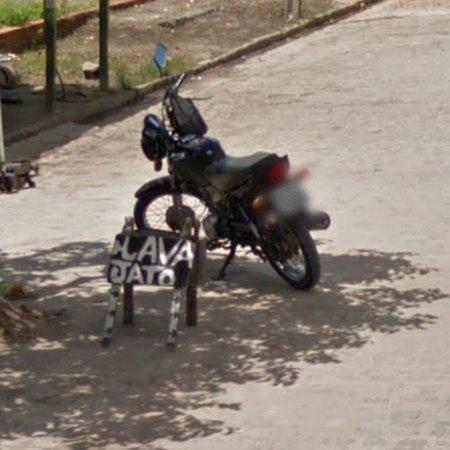motorcycles: (134, 73, 331, 290)
